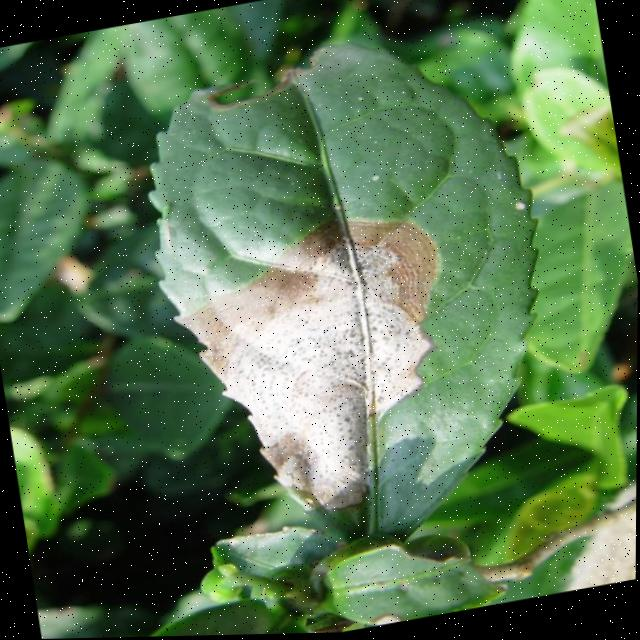Tea cloud leaf blight: (174, 201, 473, 514)
